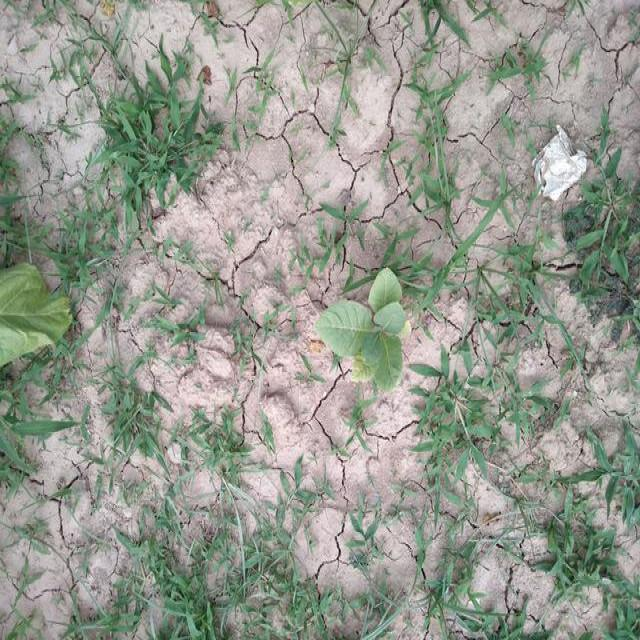crop: (325, 265, 404, 409), (0, 254, 88, 372)
